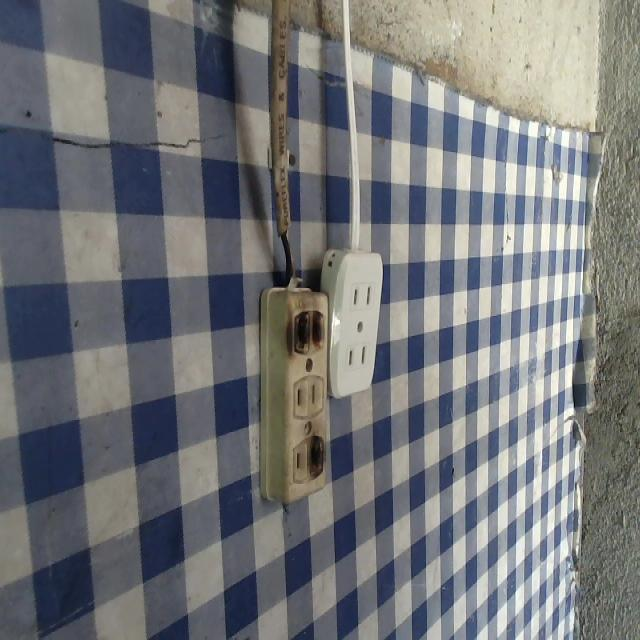-: (290, 307, 326, 360), (307, 433, 328, 476)
